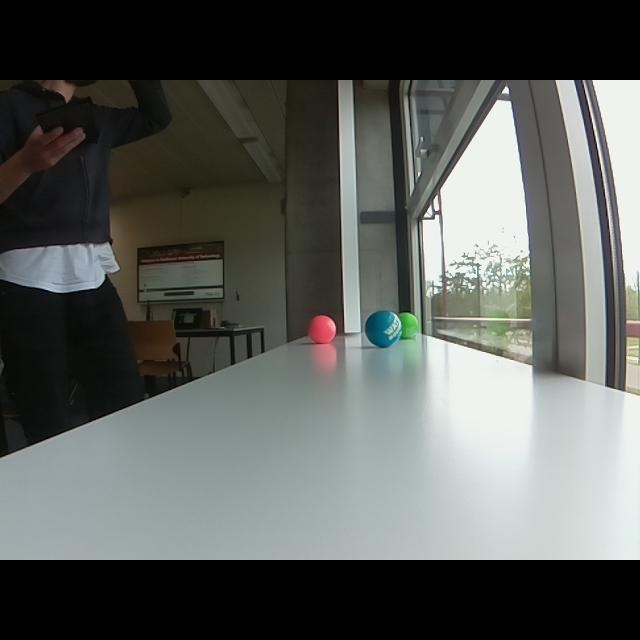ball: (307, 313, 338, 345), (402, 309, 419, 346)
